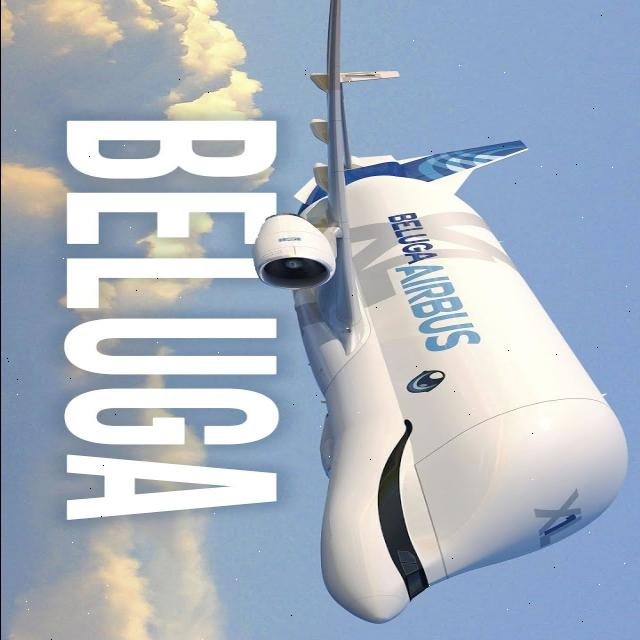A10: (255, 3, 640, 640)
